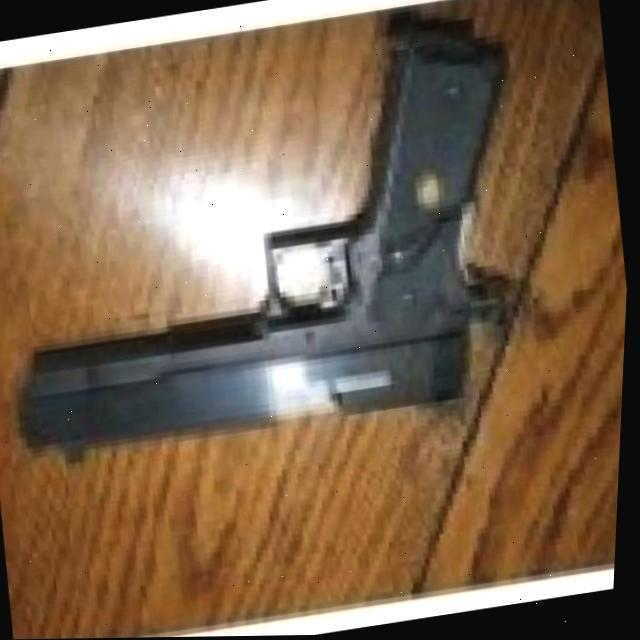gun: (0, 1, 566, 482)
